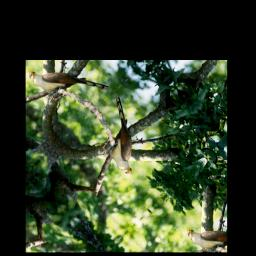Cuckoo: (79, 94, 167, 179)
